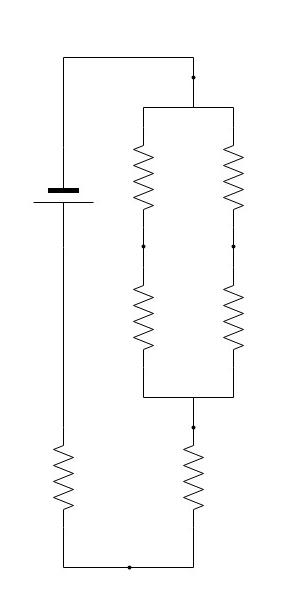resistor: (202, 261, 261, 352), (167, 426, 220, 524), (34, 424, 85, 522), (118, 268, 170, 361), (117, 129, 168, 221), (210, 129, 263, 211)
